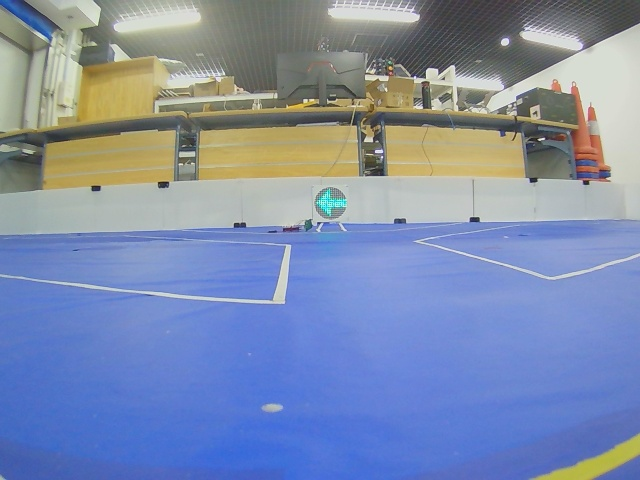left_green: (314, 187, 347, 220)
